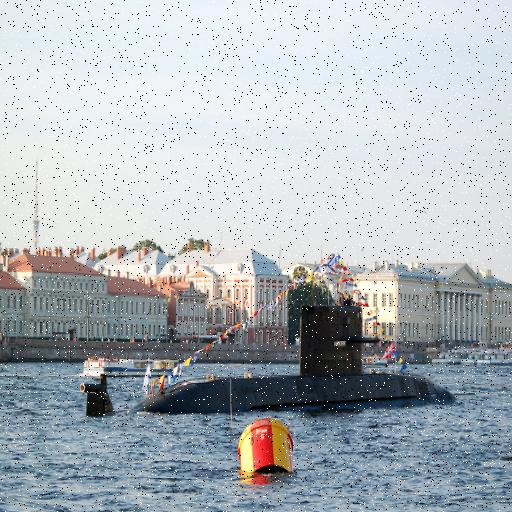submarine: (68, 302, 468, 417)
